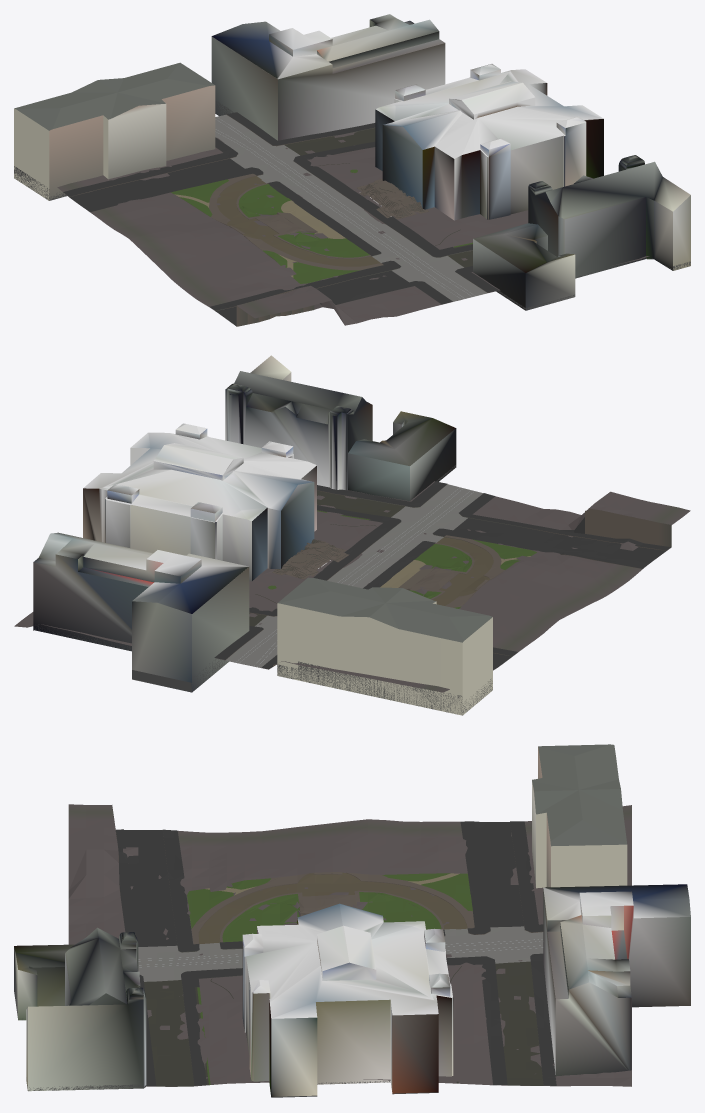
3 views of the same model, one above another, from view 1: azimuth 30°, elevation 25°; view 2: azimuth 150°, elevation 25°; view 3: azimuth 270°, elevation 25° (orthographic). The views are drawn at different scales.
Parts seen in each view (by area): view 1: c_p00_m02; view 2: c_p00_m02; view 3: c_p00_m02.
Boxes of the visible parts, box(x1,y1,x2,y2) form: c_p00_m02: box(14, 14, 690, 326); c_p00_m02: box(14, 355, 690, 715); c_p00_m02: box(14, 744, 690, 1097).
Size of the model in its own units: 139 by 27.8 by 154.
